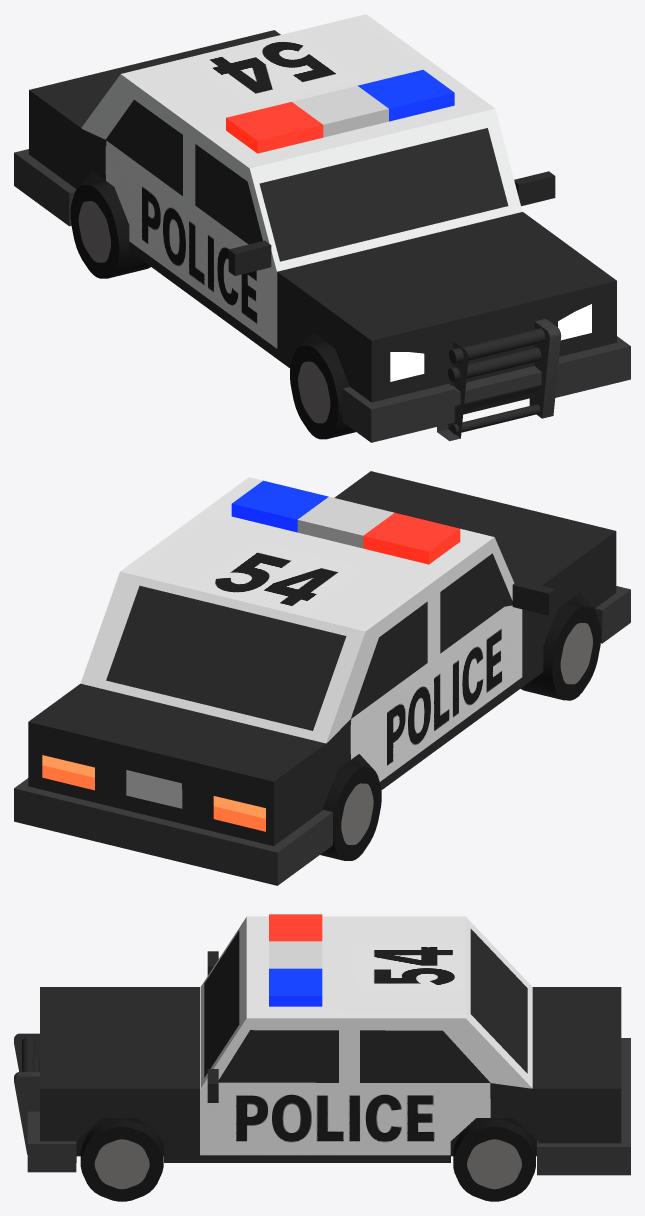
3 views of the same model, one above another, from view 1: azimuth 30°, elevation 25°; view 2: azimuth 150°, elevation 25°; view 3: azimuth 270°, elevation 25° (orthographic). The views are drawn at different scales.
Visible parts, largest first — view 1: Cube, Cylinder, Cylinder.003, Cylinder.004, Cube.002, Cube.004, Cube.003, Cylinder.006; view 2: Cube, Cube.002, Cylinder.004, Cylinder.003, Cylinder, Cube.004; view 3: Cube, Cylinder.002, Cylinder.001, Cube.002, Cylinder, Cube.003.
Boxes of the visible parts, box(x1,y1,x2,y2) form: Cube: box(29, 14, 616, 402); Cylinder: box(342, 319, 630, 442); Cylinder.003: box(70, 180, 150, 278); Cylinder.004: box(290, 341, 355, 439); Cube.002: box(14, 149, 76, 226); Cube.004: box(228, 240, 271, 275); Cube.003: box(514, 171, 555, 206); Cylinder.006: box(451, 404, 540, 434); Cube: box(28, 471, 616, 846); Cube.002: box(14, 778, 332, 885); Cylinder.004: box(520, 602, 600, 700); Cylinder.003: box(320, 763, 381, 860); Cylinder: box(595, 586, 630, 643); Cube.004: box(512, 580, 555, 615); Cube: box(40, 914, 621, 1162); Cylinder.002: box(80, 1119, 163, 1201); Cylinder.001: box(453, 1119, 535, 1201); Cube.002: box(537, 1038, 630, 1175); Cylinder: box(14, 1033, 76, 1172); Cube.003: box(207, 1069, 218, 1102).
Bounding box in the file's own units: 3.31 × 2.22 × 6.5.
12 materials, 1 textured.
